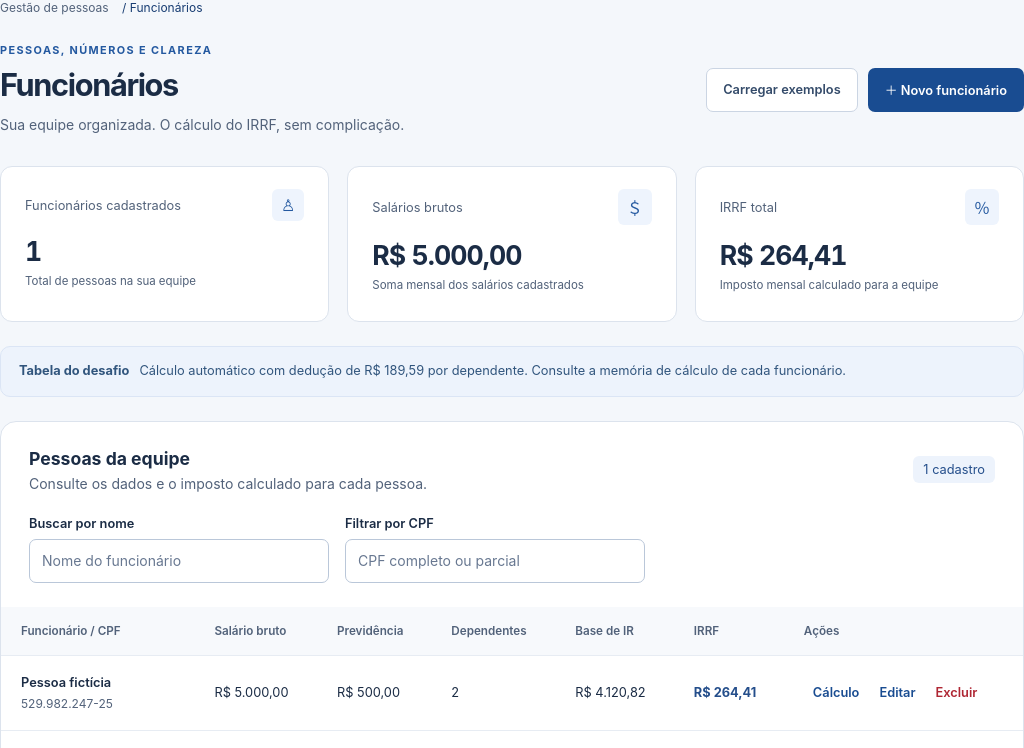
Test: cancela a exclusão e só remove após confirmação
Click the button with aria-label "Excluir Pessoa fictícia": click(956, 693) 926,673 -> 986,713
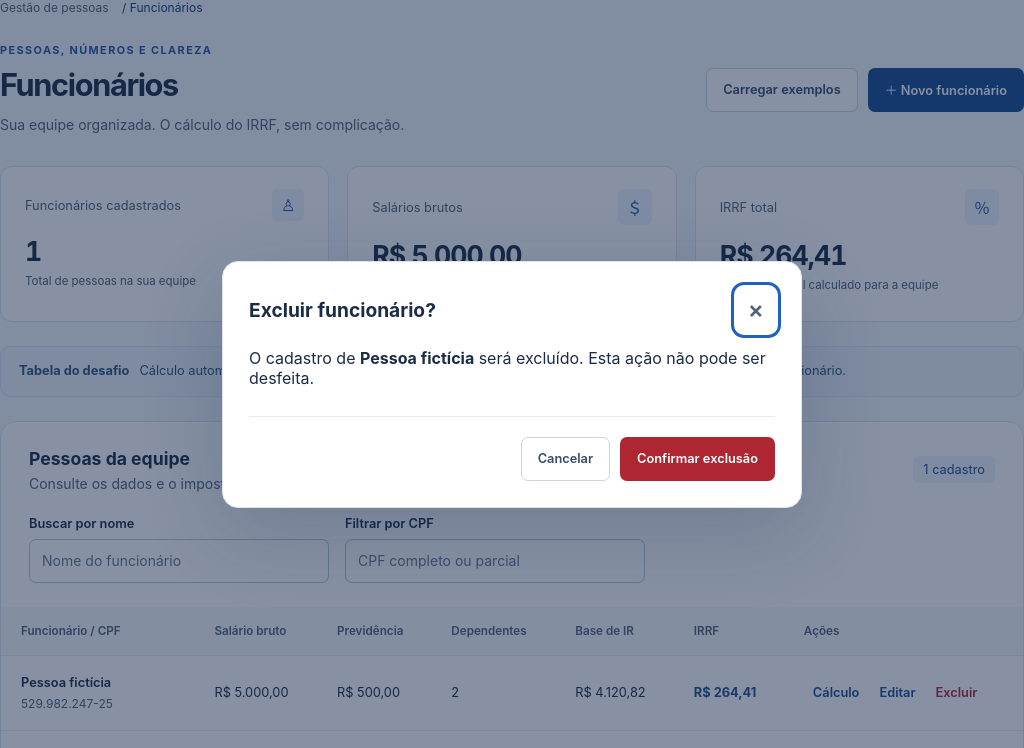
Click the button "Cancelar": click(565, 458) 521,436 -> 610,480
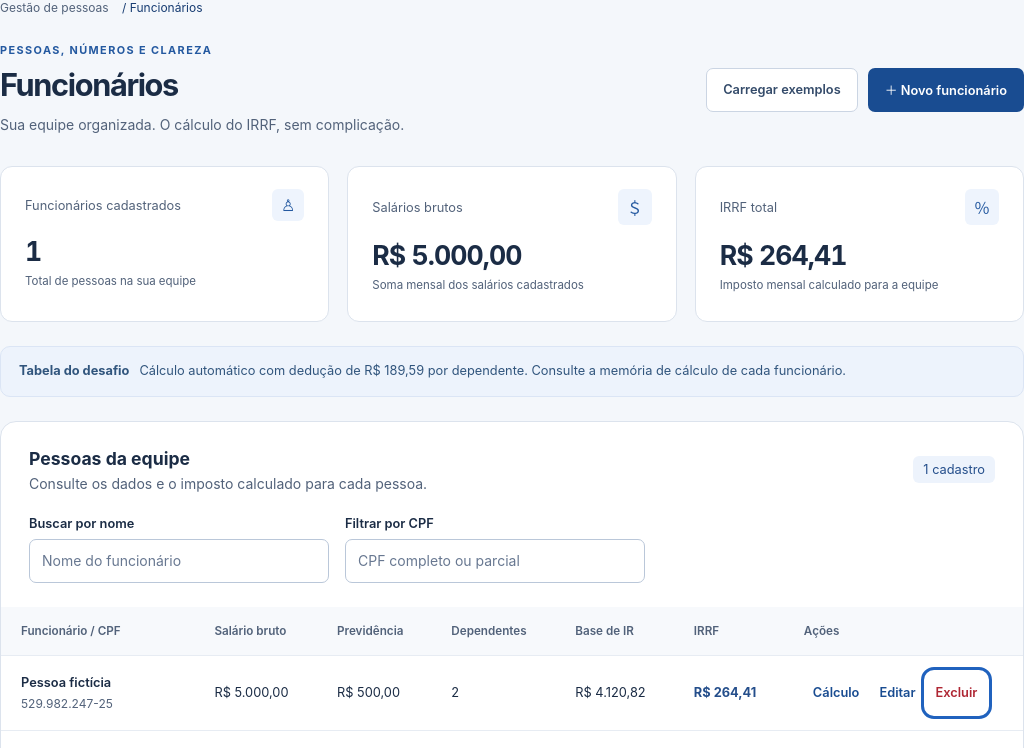
expect the text "Pessoa fictícia" is shown: met, box 21,675 -> 111,690
Click the button with aria-label "Excluir Pessoa fictícia": click(956, 693) 926,673 -> 986,713
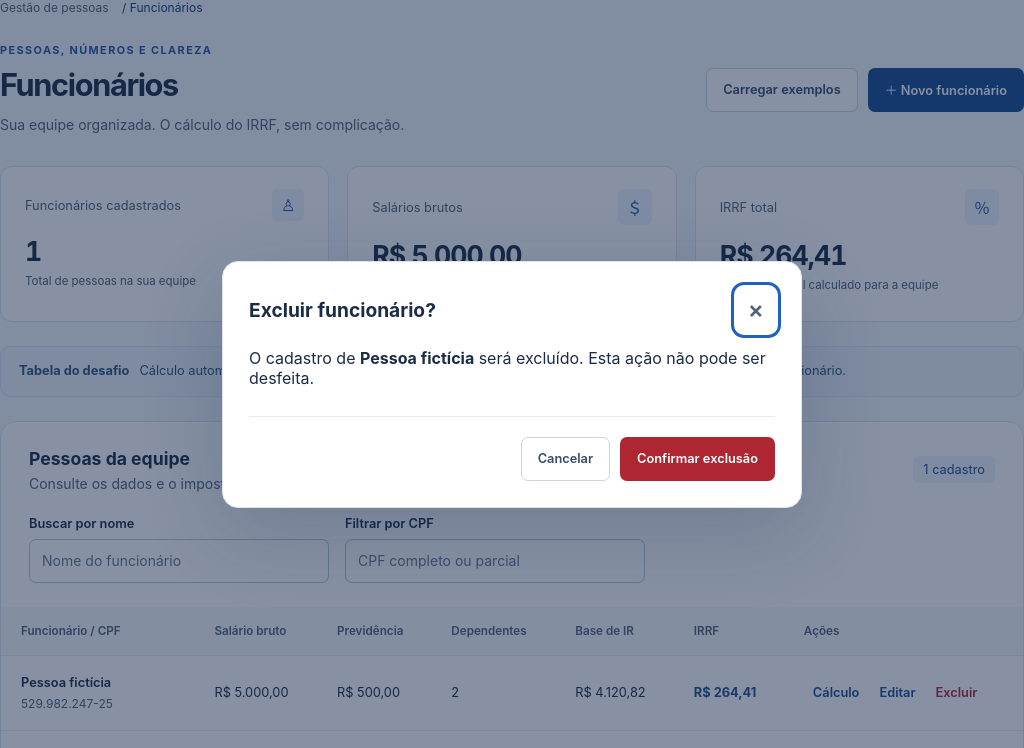
Click the button "Confirmar exclusão": click(698, 458) 620,436 -> 775,480
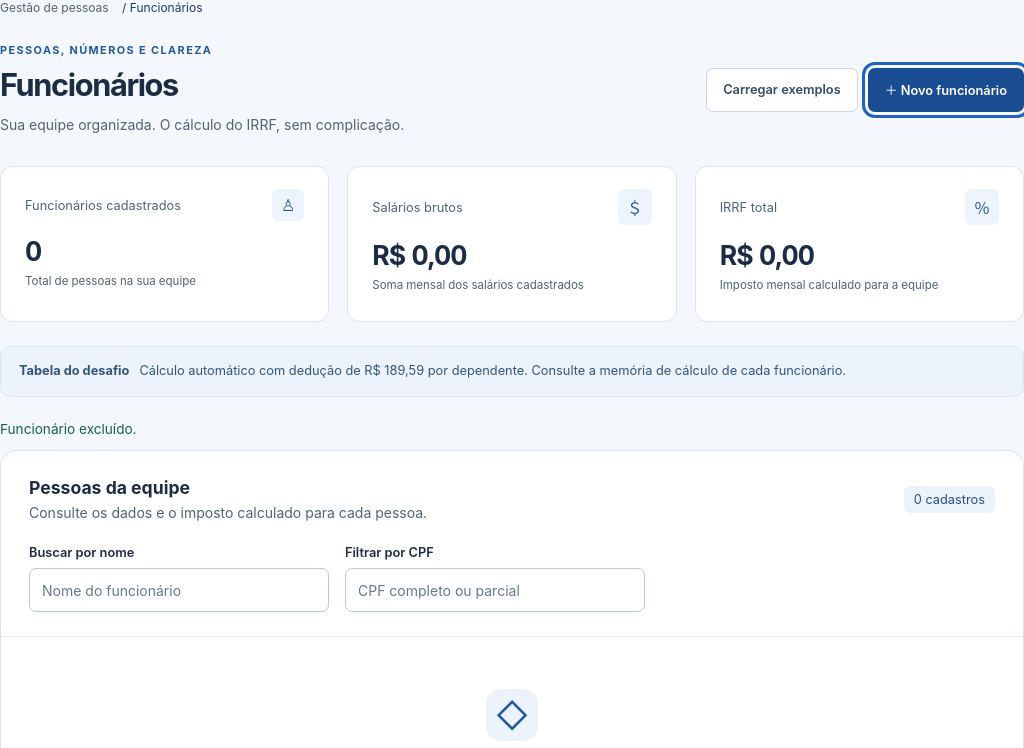
expect the text "Pessoa fictícia" is gone: met
